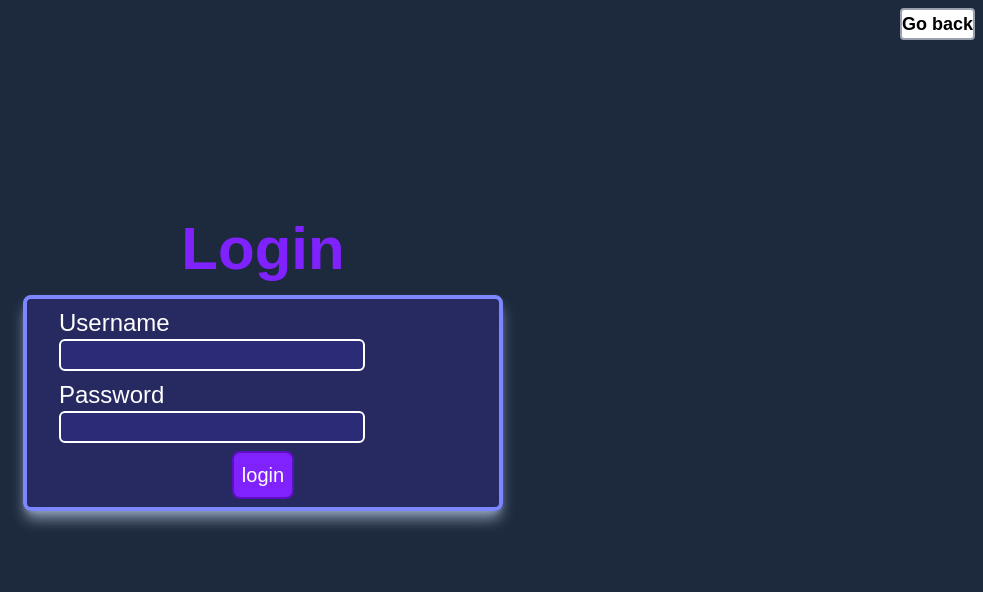
Test: Login Form › login with unknow account
Type "tr" into the field labelled "Username".
click(212, 354); type("tr")  # box [59, 338, 365, 370]
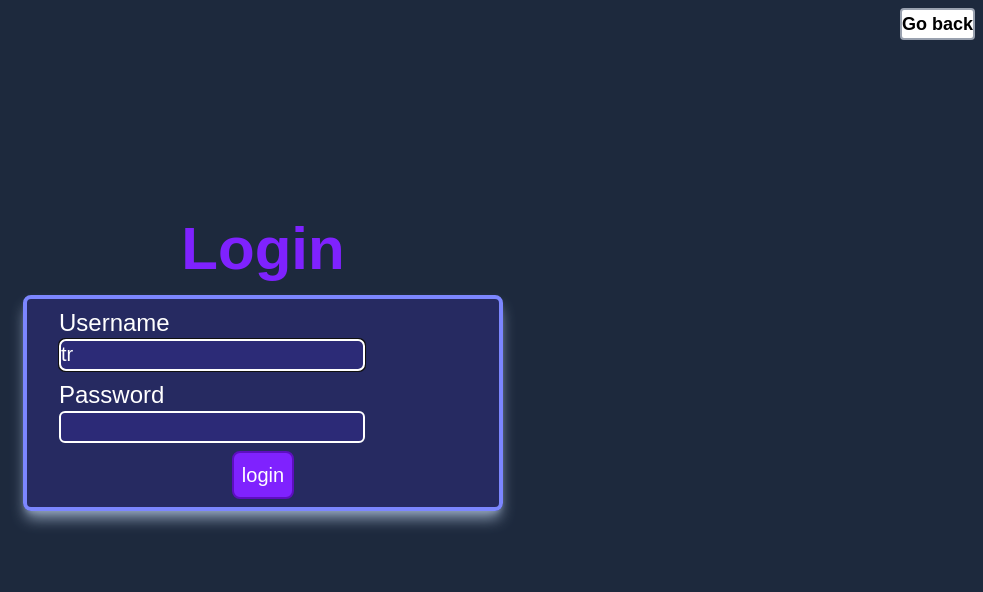
Type "srth" into the password field labelled "Password".
click(212, 426); type("srth")  # box [59, 410, 365, 442]
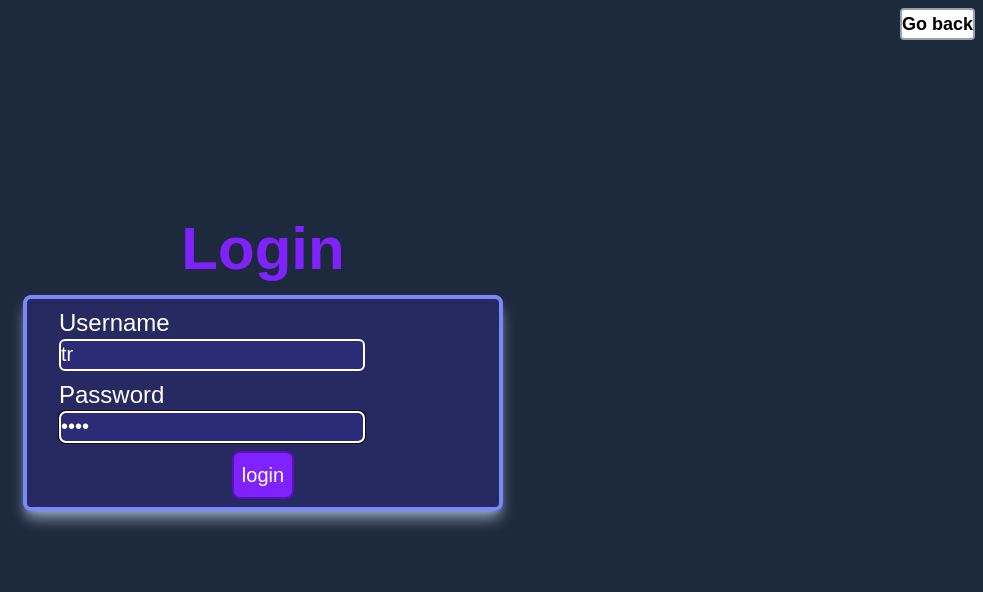
Click the button showing "login".
click(263, 474)  # box [232, 450, 294, 498]
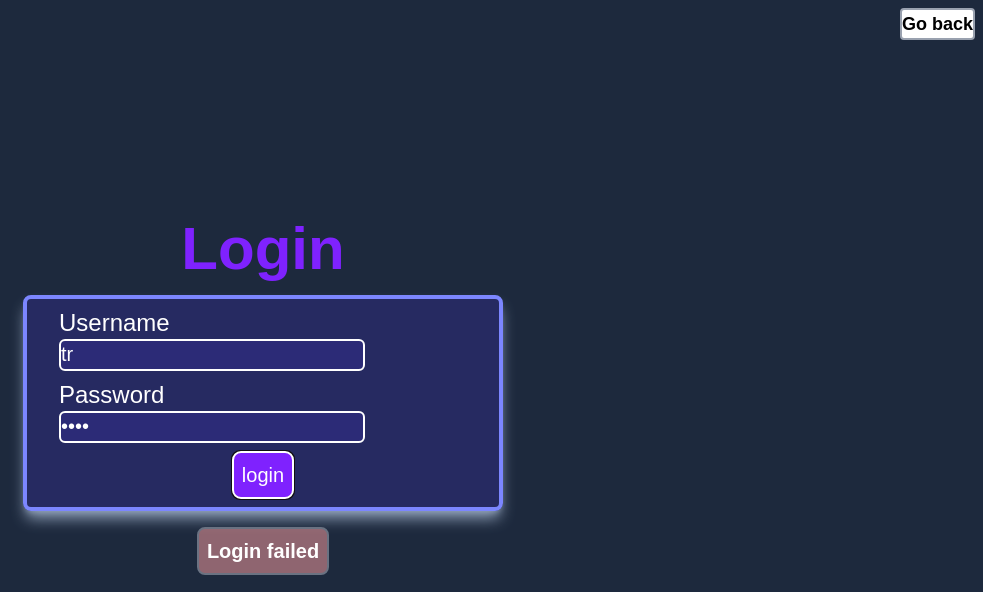
Check: the text "Login failed" is shown, box [207, 536, 319, 564]
